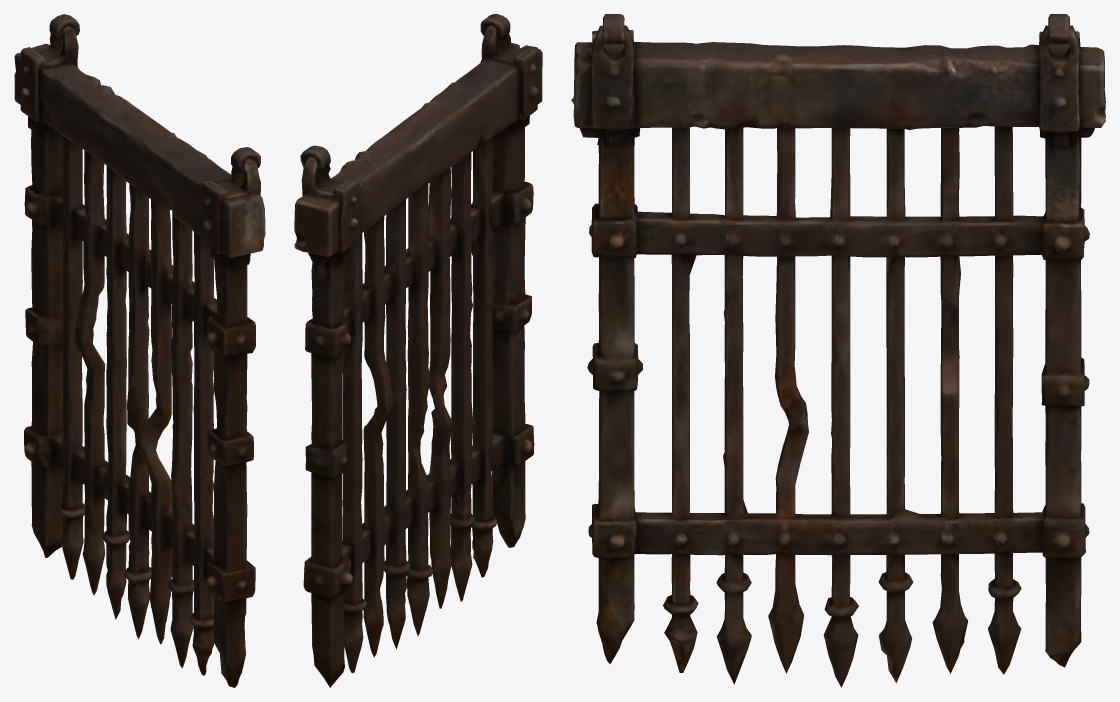
Rendered from rusted-portcullis.glb.
3 views of the same model, side by side, from view 1: azimuth 30°, elevation 25°; view 2: azimuth 150°, elevation 25°; view 3: azimuth 270°, elevation 25° (orthographic). The views are drawn at different scales.
Visible parts, largest first — view 1: tripo_node_fbc4588b-3c4b-419a-ab7c-4bb49637510a; view 2: tripo_node_fbc4588b-3c4b-419a-ab7c-4bb49637510a; view 3: tripo_node_fbc4588b-3c4b-419a-ab7c-4bb49637510a.
Boxes of the visible parts, x1,y1,x2,y2 form: tripo_node_fbc4588b-3c4b-419a-ab7c-4bb49637510a: (14,14,265,687); tripo_node_fbc4588b-3c4b-419a-ab7c-4bb49637510a: (294,14,542,687); tripo_node_fbc4588b-3c4b-419a-ab7c-4bb49637510a: (571,14,1105,687).
Bounding box in the file's own units: 0.1035 × 1 × 0.7124.
1 material, 1 textured.
